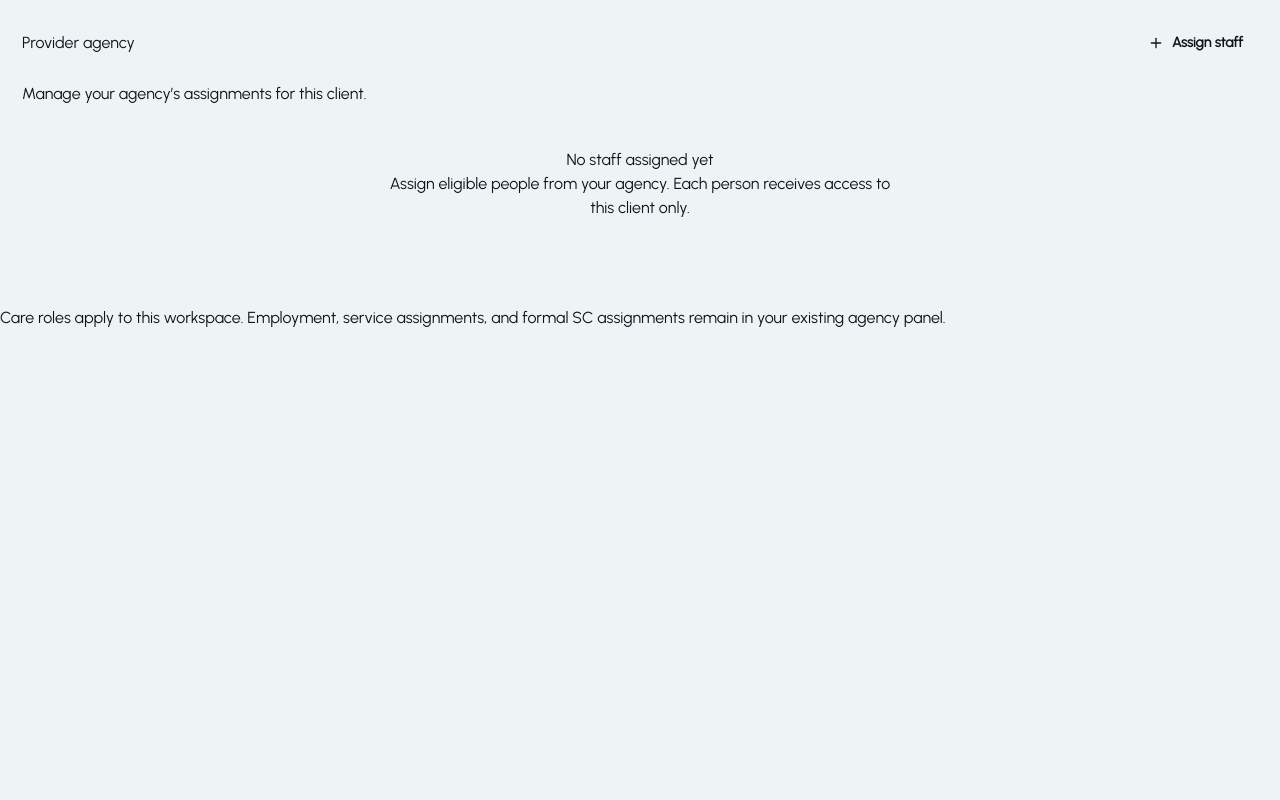
keeps roster continuation available after an empty search page and debounces keypresses
Click the button "Assign staff" at (1196, 43), box x1=1133 y1=22 x2=1258 y2=64
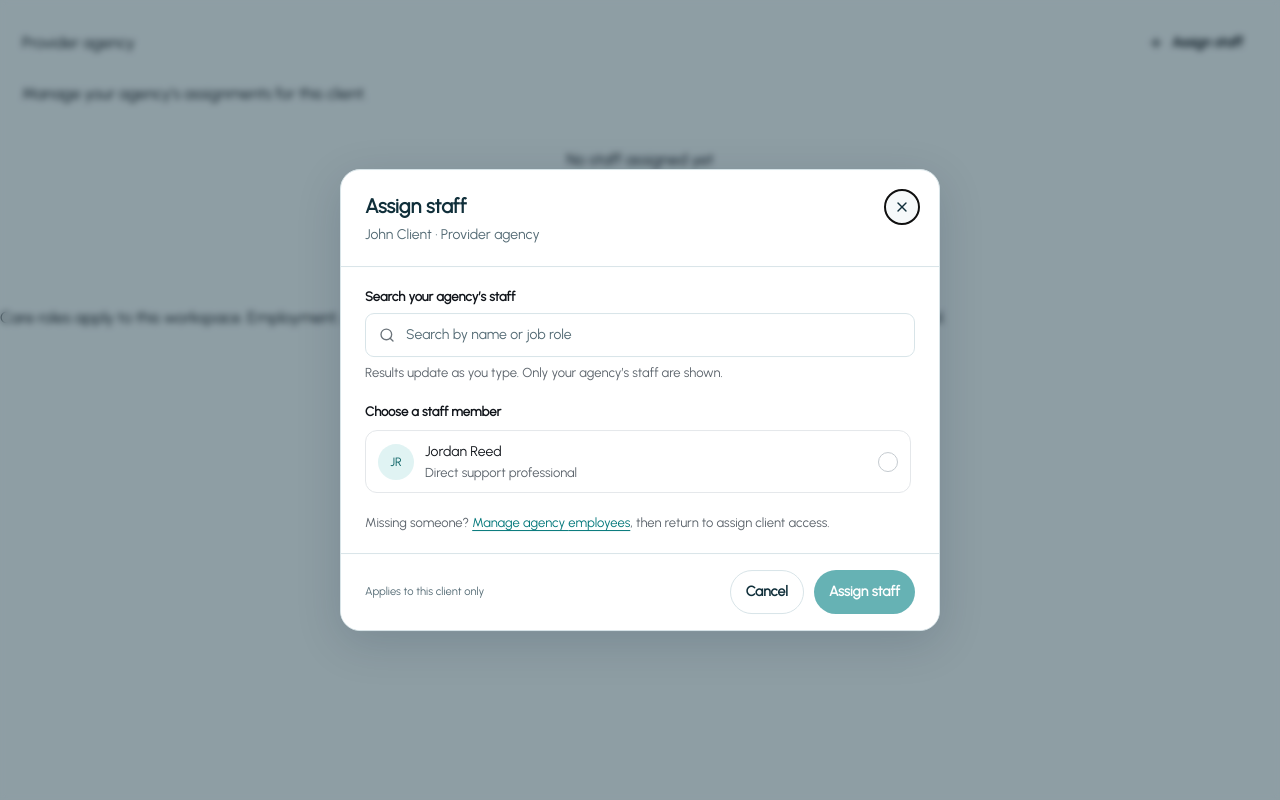
Result: the radio button with aria-label "Select Jordan Reed" is shown at x1=878 y1=452 x2=898 y2=472
Type "Jordan" into the search field at (640, 335), box x1=365 y1=313 x2=915 y2=357
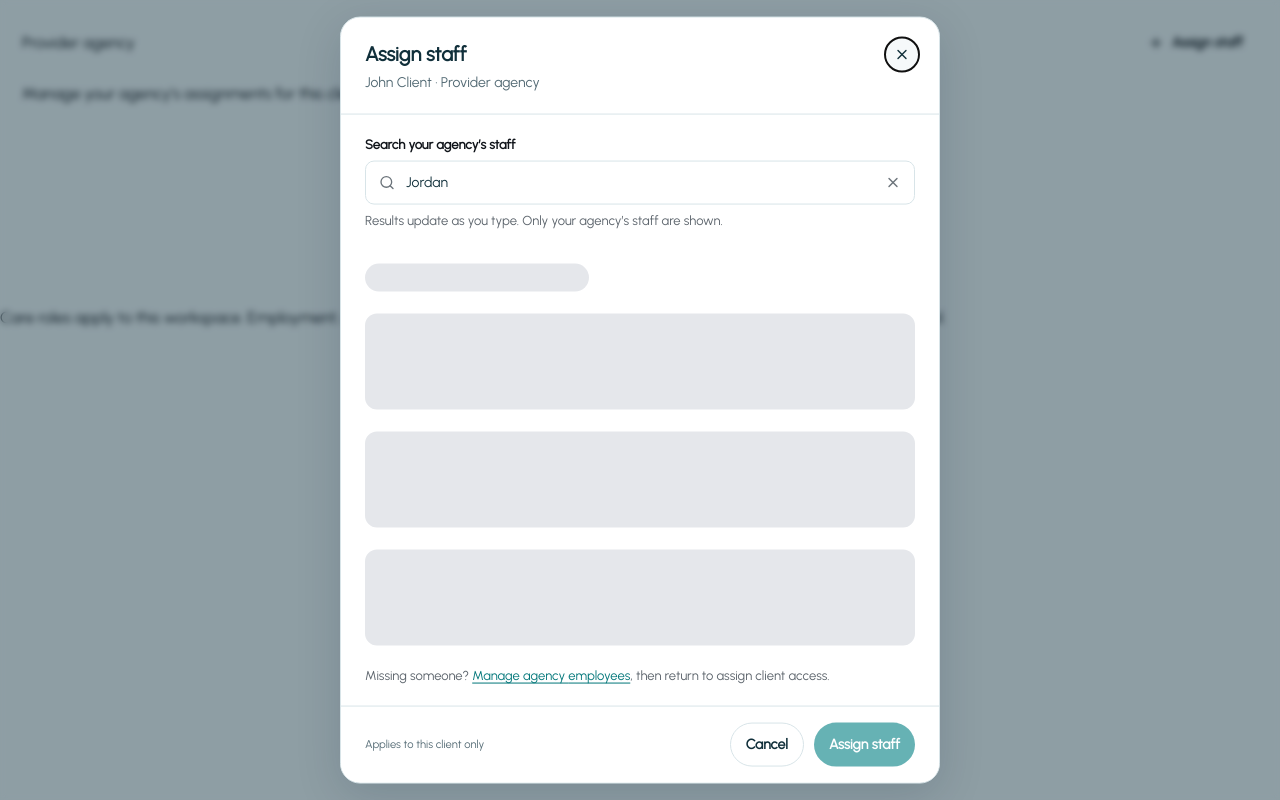
Press Enter in the search field, box x1=365 y1=160 x2=915 y2=204
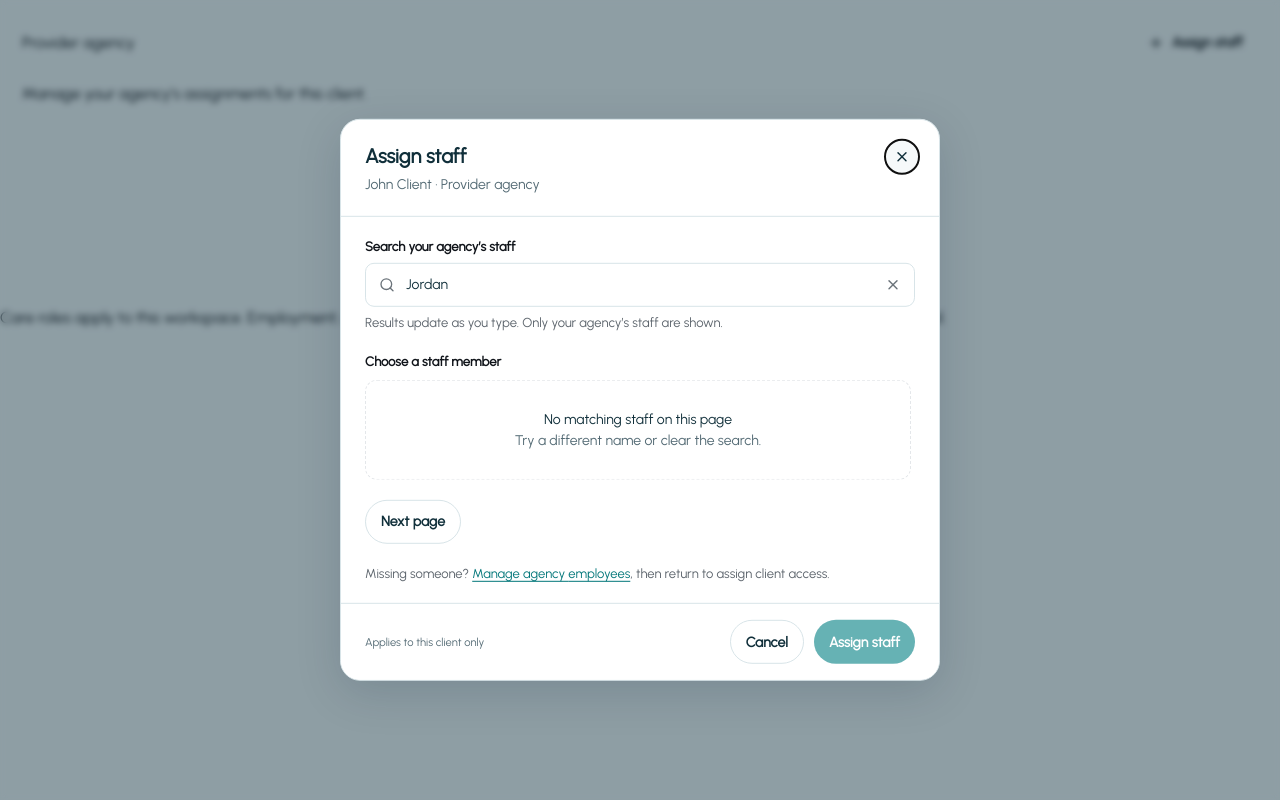
Result: the heading "No matching staff on this page" is shown at x1=544 y1=411 x2=732 y2=428
Click the button "Next page" at (413, 522), box x1=365 y1=500 x2=461 y2=544
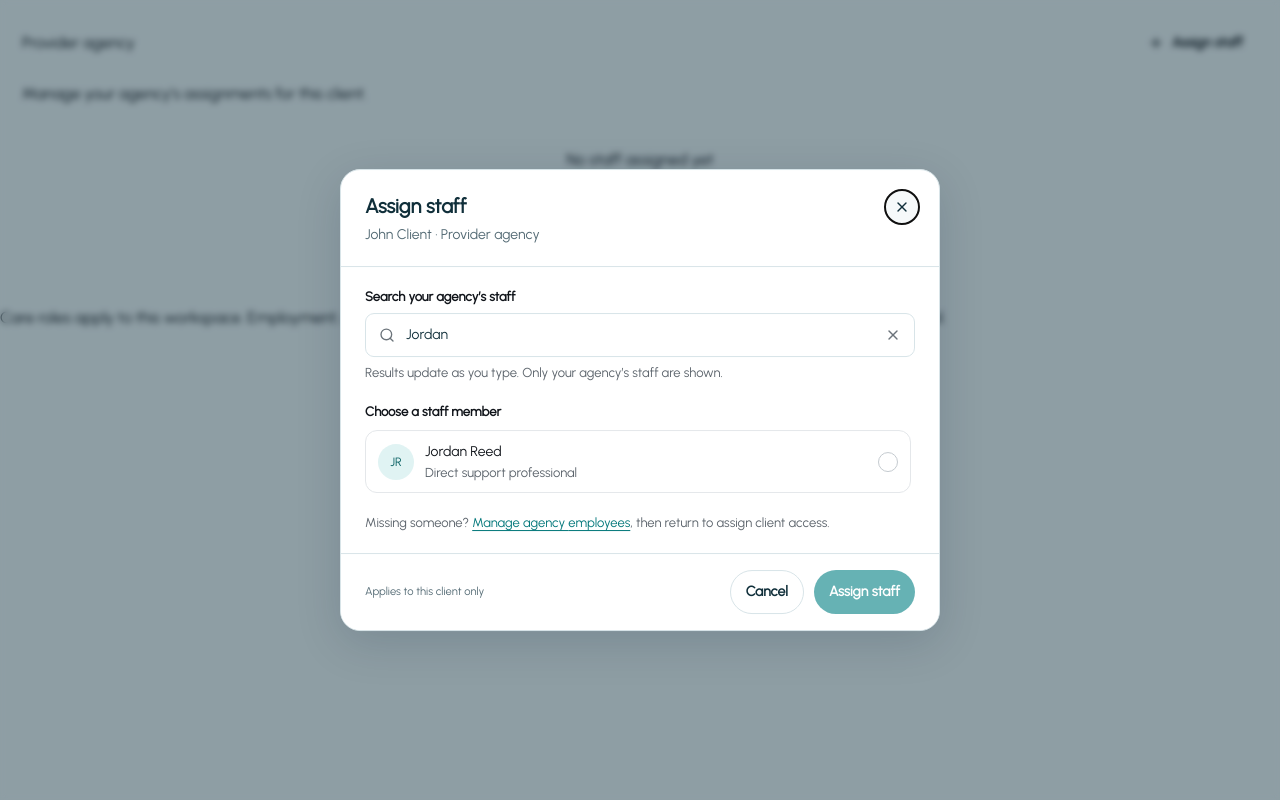
Click the radio button with aria-label "Select Jordan Reed" at (888, 462), box x1=878 y1=452 x2=898 y2=472
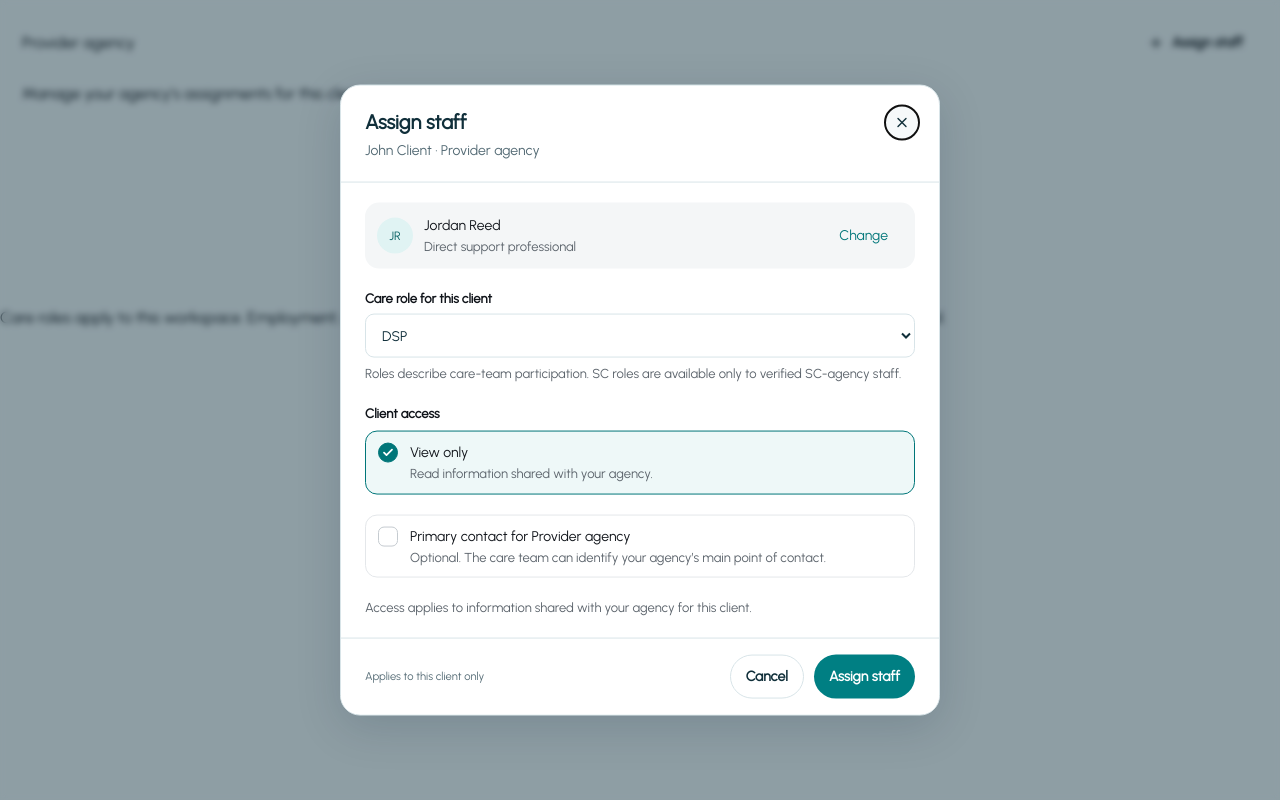
Result: the radio button labelled "View only Read information shared with your agency." is checked at x1=378 y1=443 x2=398 y2=463
